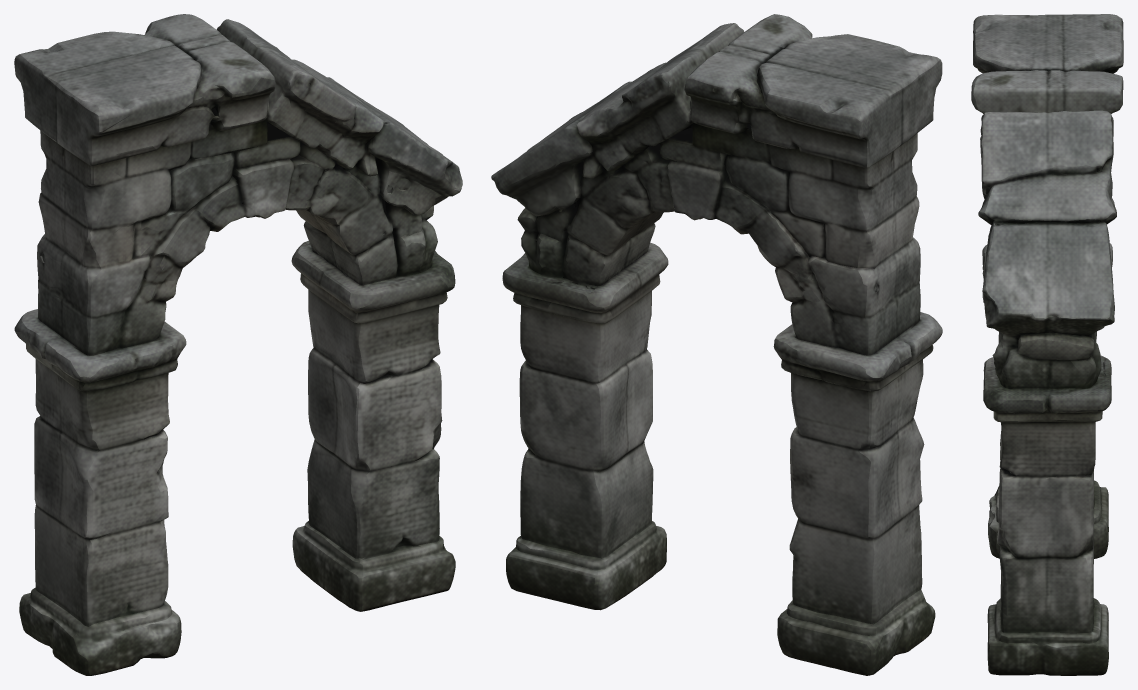
The picture shows the model from 3 angles, left to right: view 1: azimuth 30°, elevation 25°; view 2: azimuth 150°, elevation 25°; view 3: azimuth 270°, elevation 25°; orthographic projection. The views are drawn at different scales.
Visible parts, largest first — view 1: world; view 2: world; view 3: world.
Part boxes in pixels (x1=…): world: x1=14, y1=14, x2=462, y2=675; world: x1=491, y1=14, x2=942, y2=675; world: x1=971, y1=14, x2=1123, y2=675.
Bounding box in the file's own units: 0.7199 × 1 × 0.2733.
1 material, 1 textured.
